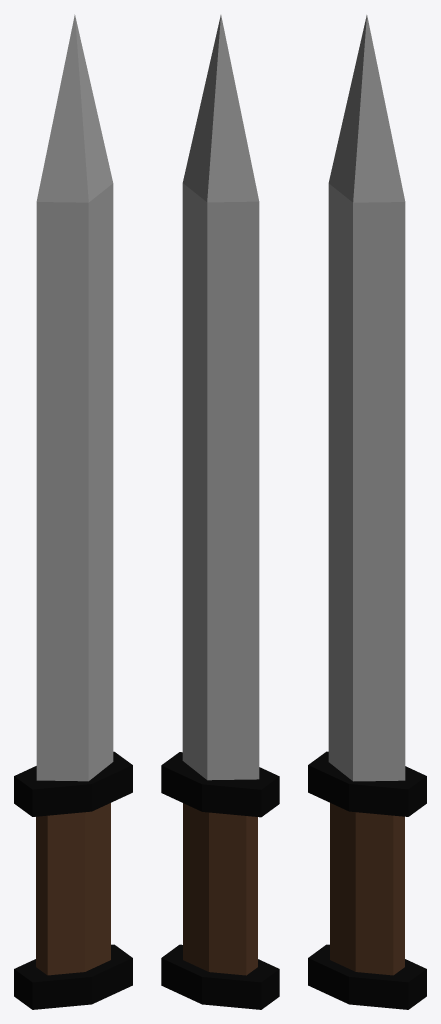
The model's file is Sword.fbx.
The picture shows the model from 3 angles, left to right: view 1: azimuth 30°, elevation 25°; view 2: azimuth 150°, elevation 25°; view 3: azimuth 330°, elevation 25°; orthographic projection.
Visible parts, largest first — view 1: mergedBlocks; view 2: mergedBlocks; view 3: mergedBlocks.
Part boxes in pixels (x1=…): mergedBlocks: x1=14, y1=14, x2=132, y2=1009; mergedBlocks: x1=161, y1=15, x2=279, y2=1009; mergedBlocks: x1=308, y1=15, x2=426, y2=1009.
Bounding box in the file's own units: 1.91 × 17.74 × 1.21.
